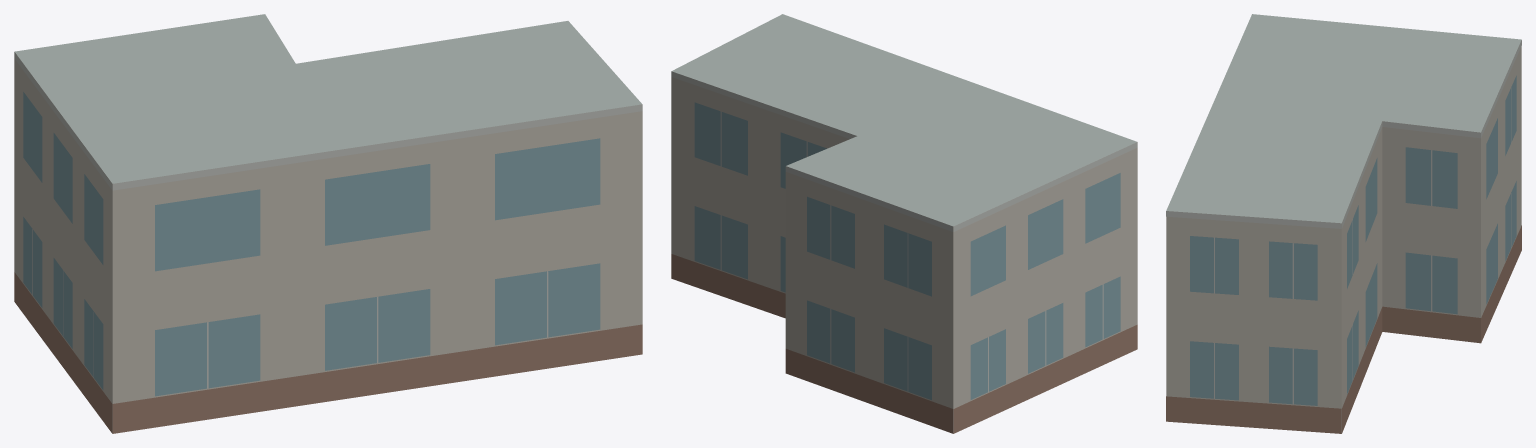
File: survey-upis-32895364.glb
The picture shows the model from 3 angles, left to right: view 1: azimuth 30°, elevation 25°; view 2: azimuth 150°, elevation 25°; view 3: azimuth 270°, elevation 25°; orthographic projection. The views are drawn at different scales.
Parts seen in each view (by area): view 1: survey-upis-32895364.tmp; view 2: survey-upis-32895364.tmp; view 3: survey-upis-32895364.tmp.
Boxes of the visible parts, x1=… form: survey-upis-32895364.tmp: x1=14, y1=14, x2=642, y2=433; survey-upis-32895364.tmp: x1=671, y1=14, x2=1137, y2=433; survey-upis-32895364.tmp: x1=1166, y1=14, x2=1521, y2=433.
Bounding box in the file's own units: 19.08 × 8.95 × 13.71.
